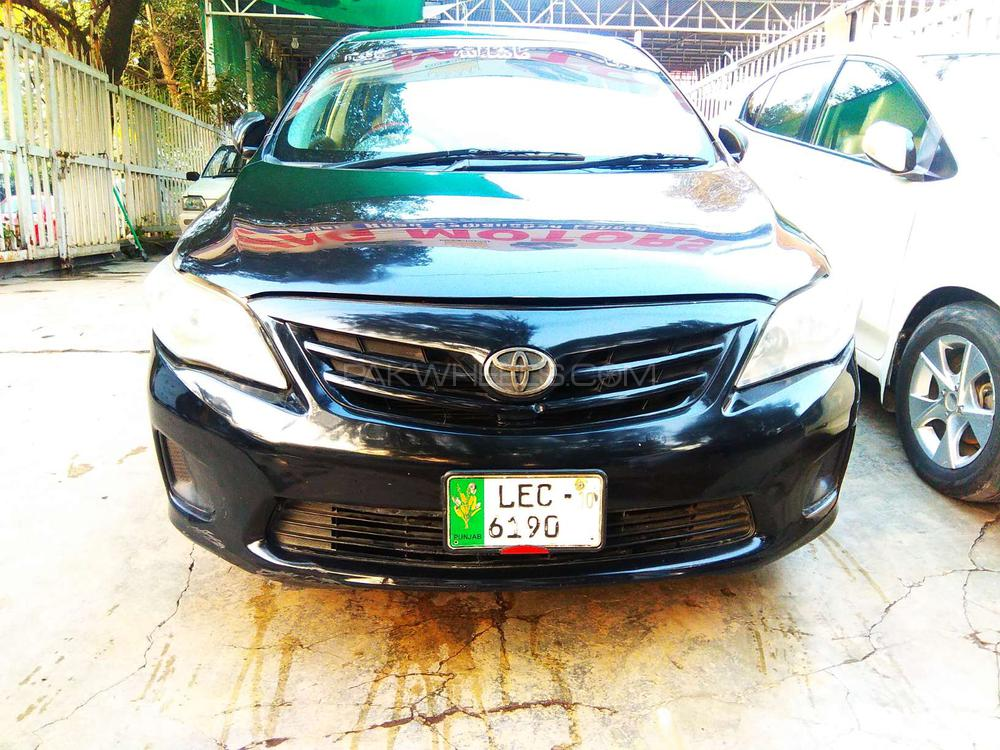plate: (438, 467, 611, 554)
